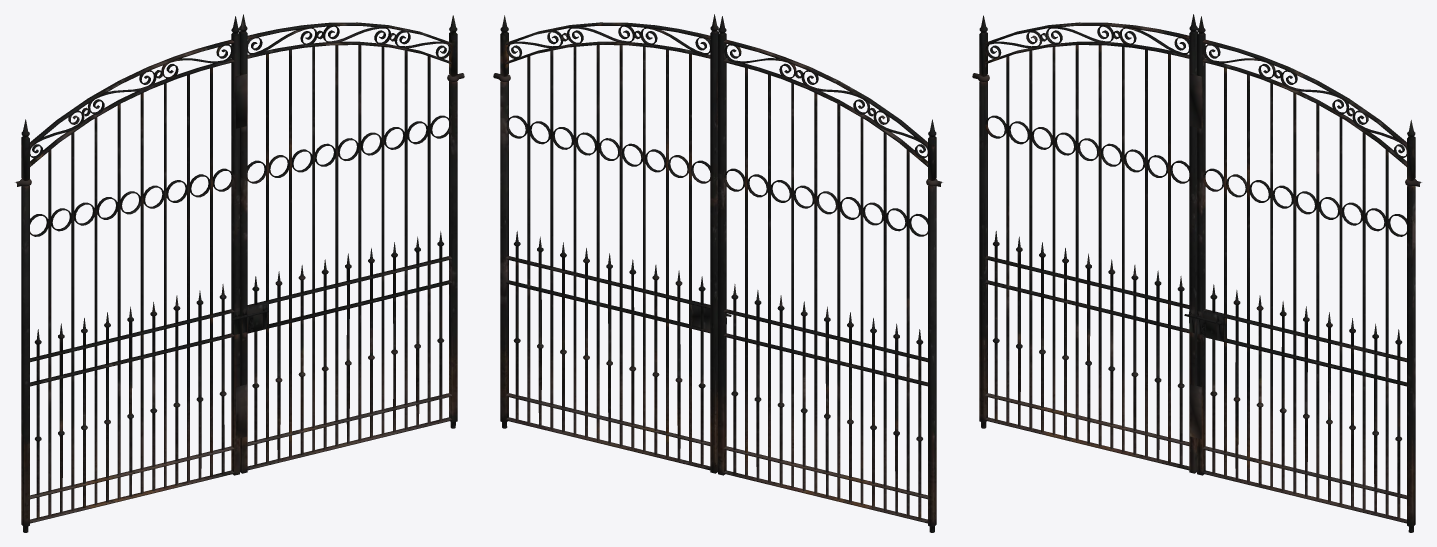
Rendered from large_iron_gate.glb.
3 renders of one model, left to right at view 1: azimuth 30°, elevation 25°; view 2: azimuth 150°, elevation 25°; view 3: azimuth 330°, elevation 25°, orthographic.
Visible parts, largest first — view 1: large_iron_gate_right_door; view 2: large_iron_gate_right_door; view 3: large_iron_gate_right_door.
Part boxes in pixels (box(x1,y1,x2,y2)): large_iron_gate_right_door: box(15, 14, 464, 532); large_iron_gate_right_door: box(493, 14, 942, 532); large_iron_gate_right_door: box(972, 14, 1421, 532).
Bounding box in the file's own units: 2.95 × 2.93 × 0.0972.
Materials: 1 (1 with a texture image).
